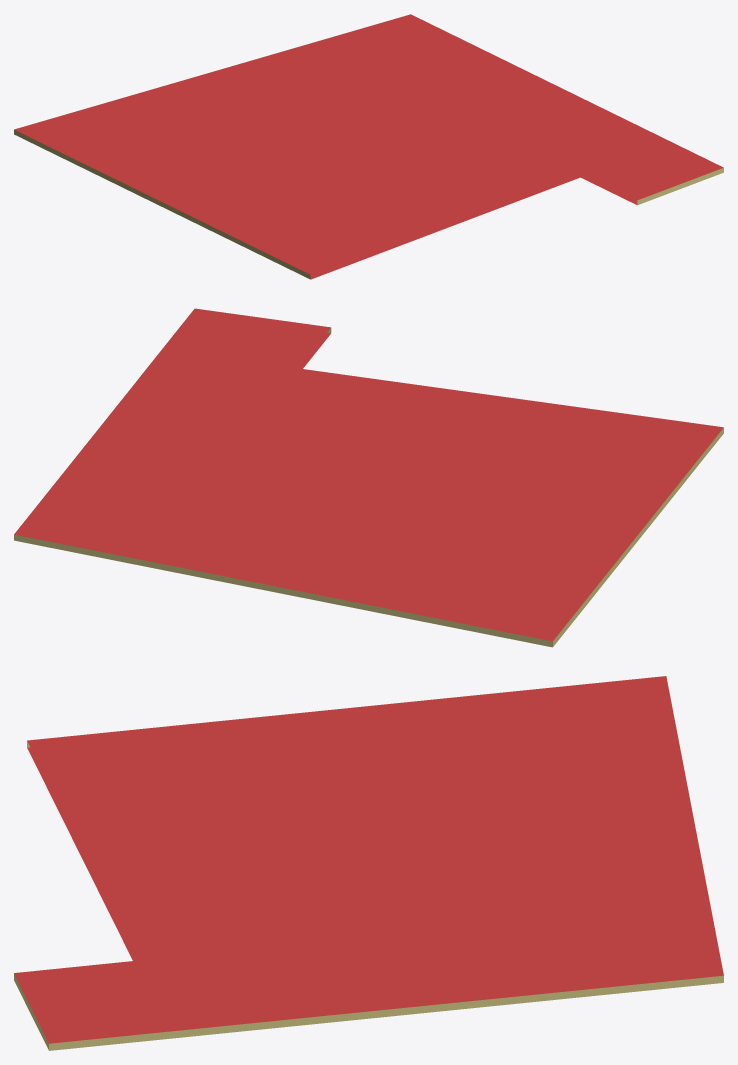
3 views of the same model, one above another, from view 1: azimuth 30°, elevation 25°; view 2: azimuth 150°, elevation 25°; view 3: azimuth 270°, elevation 25° (orthographic). The views are drawn at different scales.
Size of the model in its own units: 10.62 by 8.89 by 0.229.
